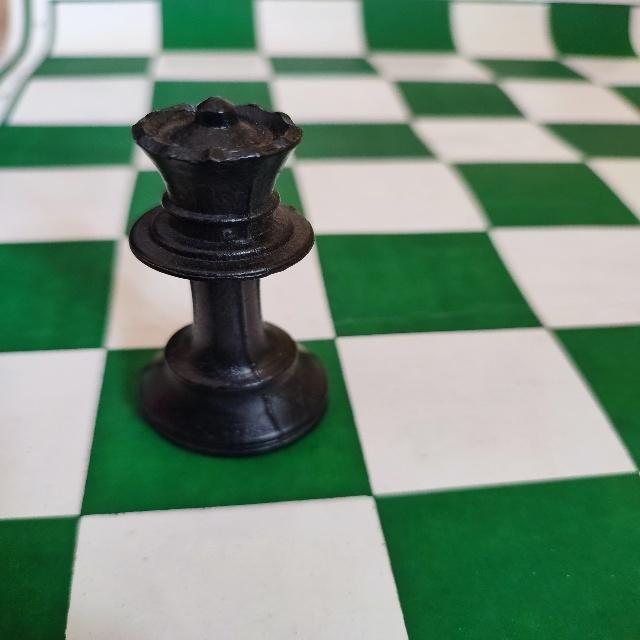Queen: (121, 88, 334, 462)
